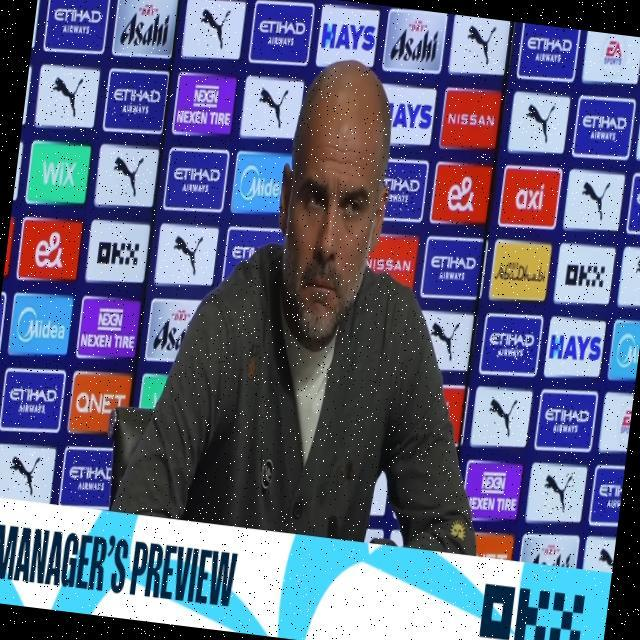Etihad Airways: (50, 0, 104, 43), (67, 456, 116, 501), (170, 163, 225, 202), (7, 379, 59, 420), (379, 167, 424, 213), (112, 82, 162, 120), (256, 11, 307, 48), (429, 248, 478, 286), (525, 31, 576, 67), (486, 326, 536, 362), (578, 109, 627, 144), (542, 405, 589, 438), (594, 475, 623, 518), (231, 243, 260, 262), (632, 186, 640, 222)
Puma: (46, 71, 88, 124), (169, 228, 206, 281), (461, 19, 499, 70), (424, 314, 462, 364), (253, 86, 293, 133), (6, 449, 45, 497), (109, 149, 146, 197), (539, 468, 576, 516), (522, 98, 557, 147), (482, 394, 519, 439), (577, 181, 615, 223), (197, 4, 232, 49), (595, 541, 615, 573), (631, 250, 640, 294)
